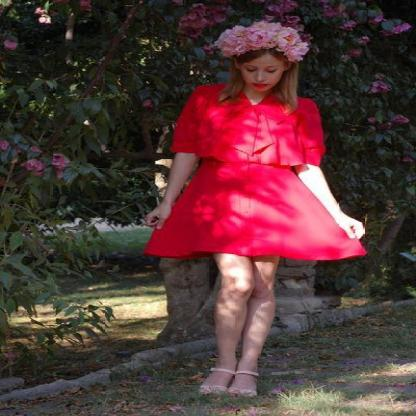dress: (143, 85, 361, 260)
shoe: (199, 358, 258, 396)
